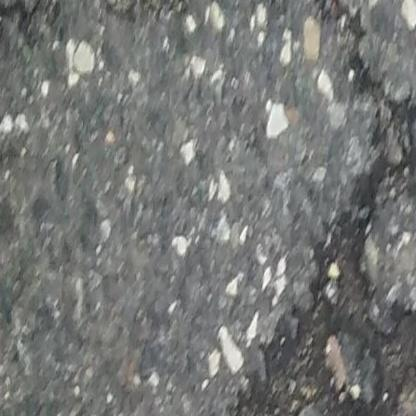Cracks: (216, 160, 416, 416), (264, 0, 416, 181), (68, 0, 238, 26), (0, 0, 64, 55)
